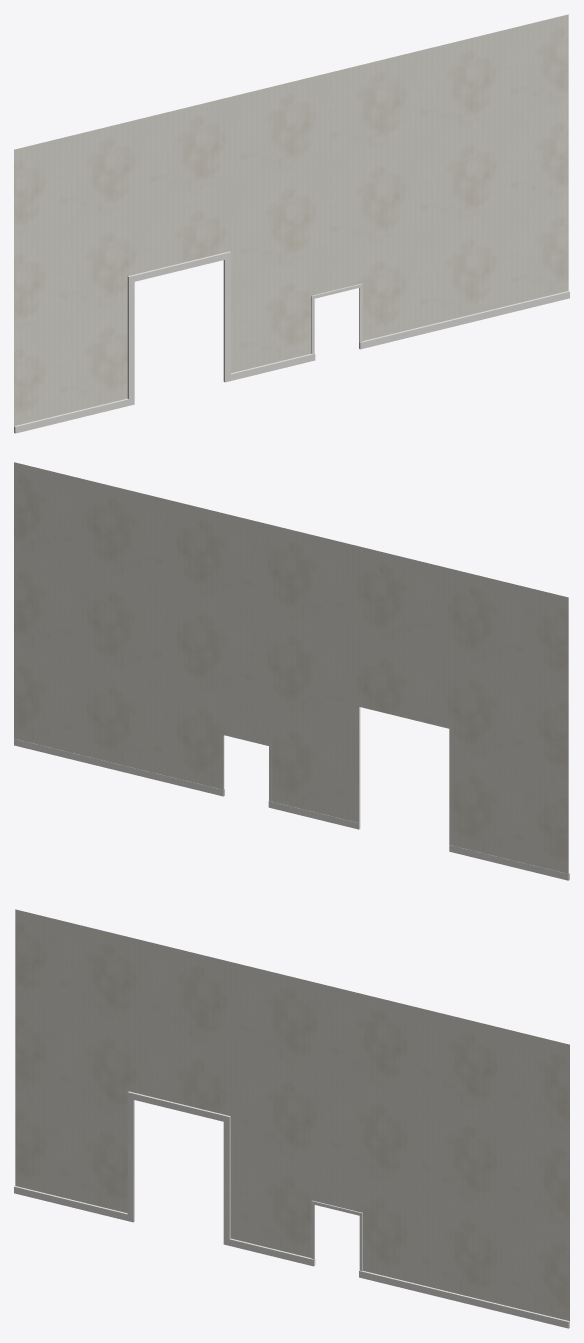
The picture shows the model from 3 angles, top to bottom: view 1: azimuth 30°, elevation 25°; view 2: azimuth 150°, elevation 25°; view 3: azimuth 330°, elevation 25°; orthographic projection.
Parts seen in each view (by area): view 1: jx_wm_12_889da25d; view 2: jx_wm_12_889da25d; view 3: jx_wm_12_889da25d.
Part boxes in pixels (x1,y1,x2,y2): jx_wm_12_889da25d: (14, 14, 569, 433); jx_wm_12_889da25d: (14, 462, 569, 880); jx_wm_12_889da25d: (14, 909, 569, 1328).
Bounding box in the file's own units: 12.3 × 6 × 0.05.
Materials: 2 (2 with a texture image).
